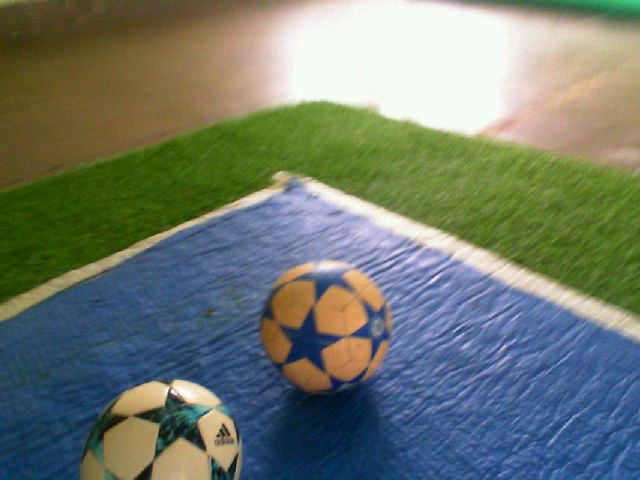ball: (256, 257, 396, 400), (75, 376, 245, 480)
